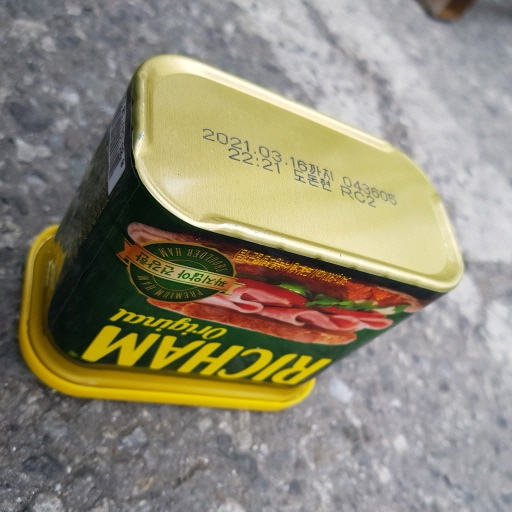Metal_2: (17, 54, 463, 417)
